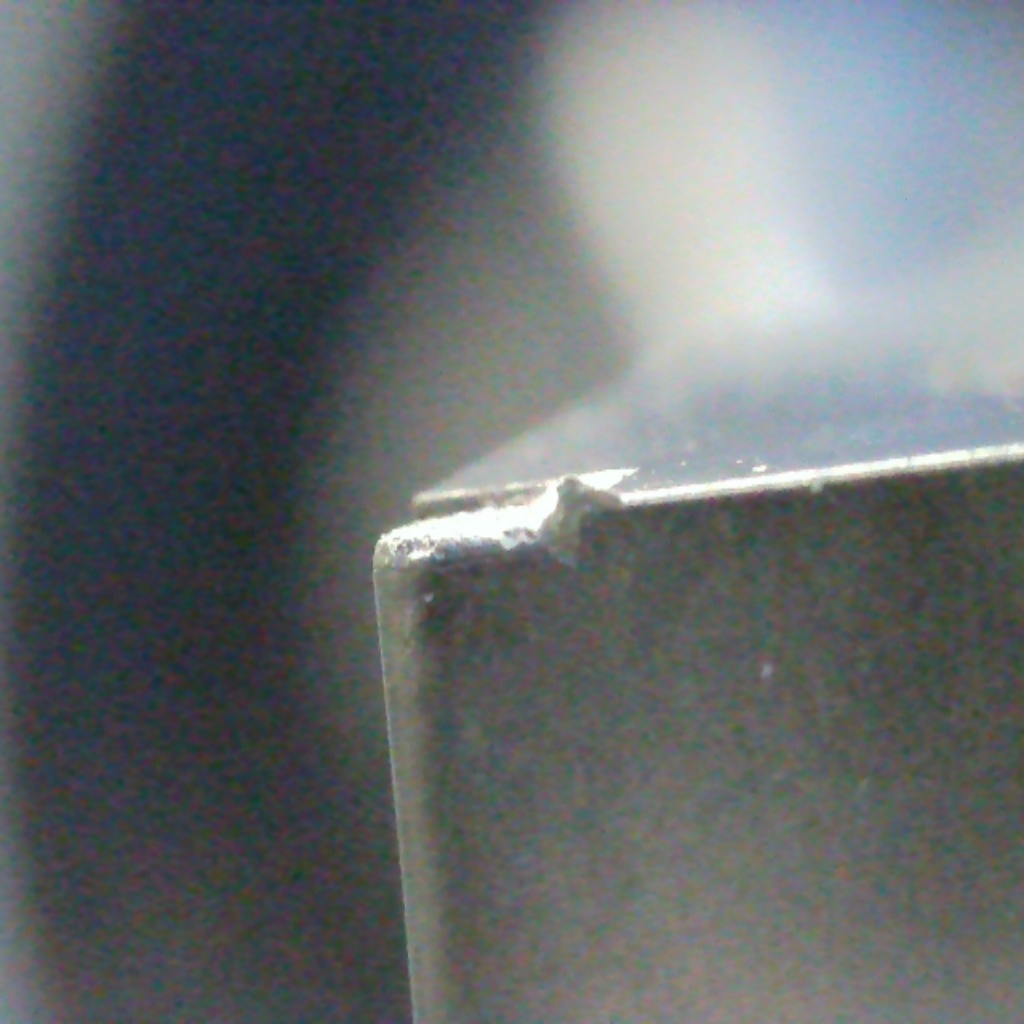flank_wear: (516, 473, 626, 573)
